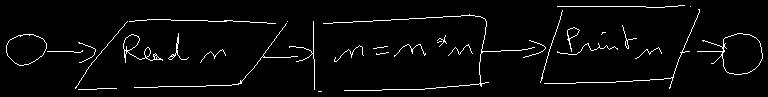arrow: (482, 40, 545, 57), (680, 40, 724, 63), (47, 42, 95, 62), (263, 46, 312, 61)
connection: (722, 33, 762, 74), (6, 34, 46, 65)
data: (75, 19, 287, 89), (540, 5, 699, 88), (27, 34, 30, 37)
process: (313, 14, 488, 91)
text: (334, 35, 472, 61), (557, 25, 661, 58), (123, 33, 225, 62)
